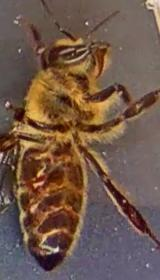varroa_mite: (24, 166, 56, 197)
